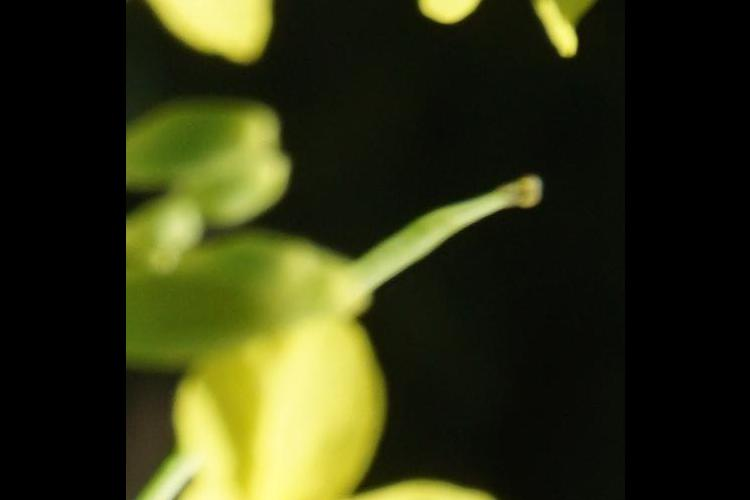bud: (137, 230, 307, 354), (130, 111, 277, 182), (195, 148, 299, 229)
pod: (346, 169, 541, 305)
yellow: (142, 344, 540, 500), (421, 1, 623, 45), (127, 1, 282, 58)
